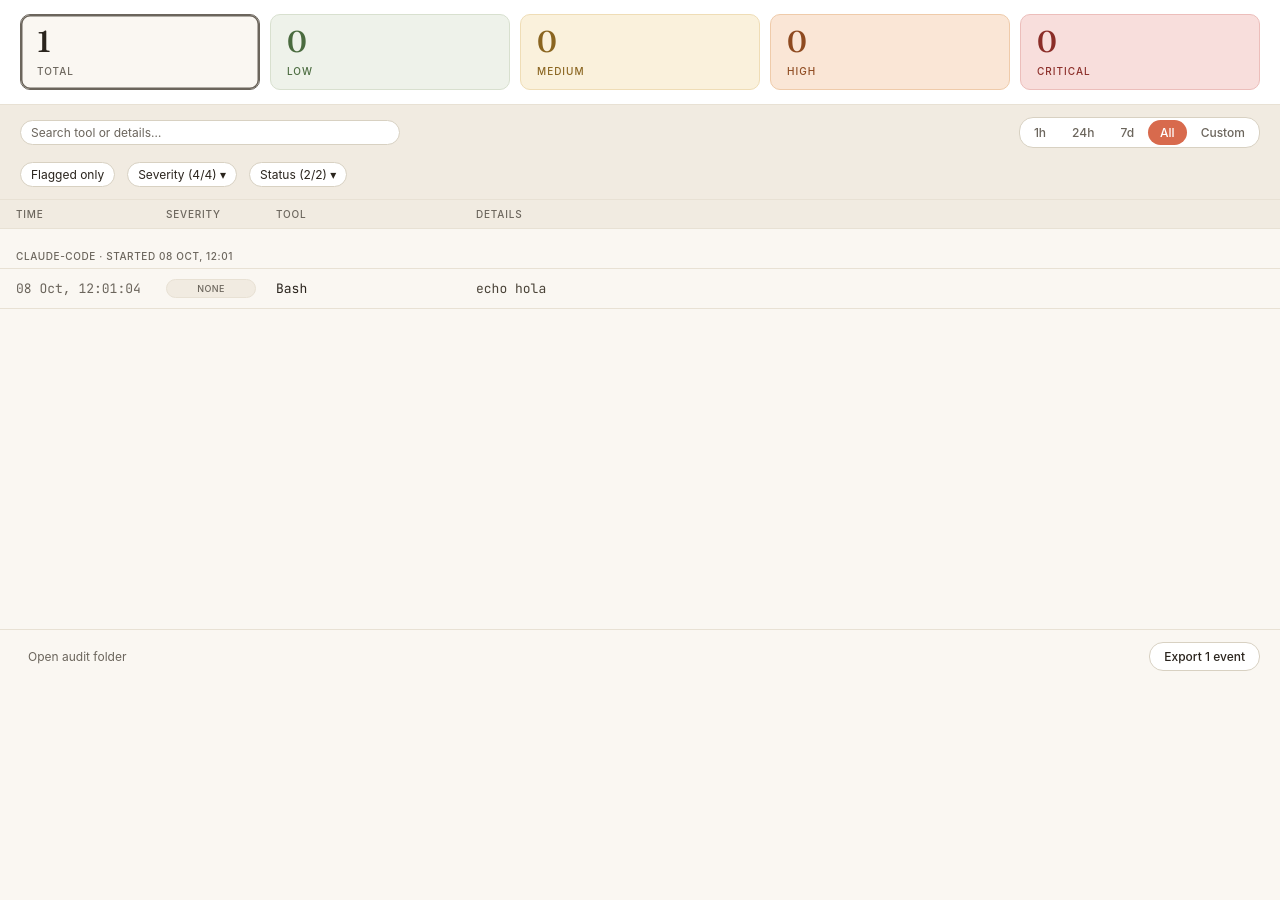
CC empty state (dogfood 22/07) › inline Clear filters (producto 22/07): absent without filters, appears with one and restores everything
This screenshot has width=1280, height=900.
Expected: the text "Bash" is shown, x1=276 y1=280 x2=307 y2=297
Expected: the button "Clear filters" is not shown
Click the button "24h": (1083, 132) x1=1060 y1=120 x2=1106 y2=145
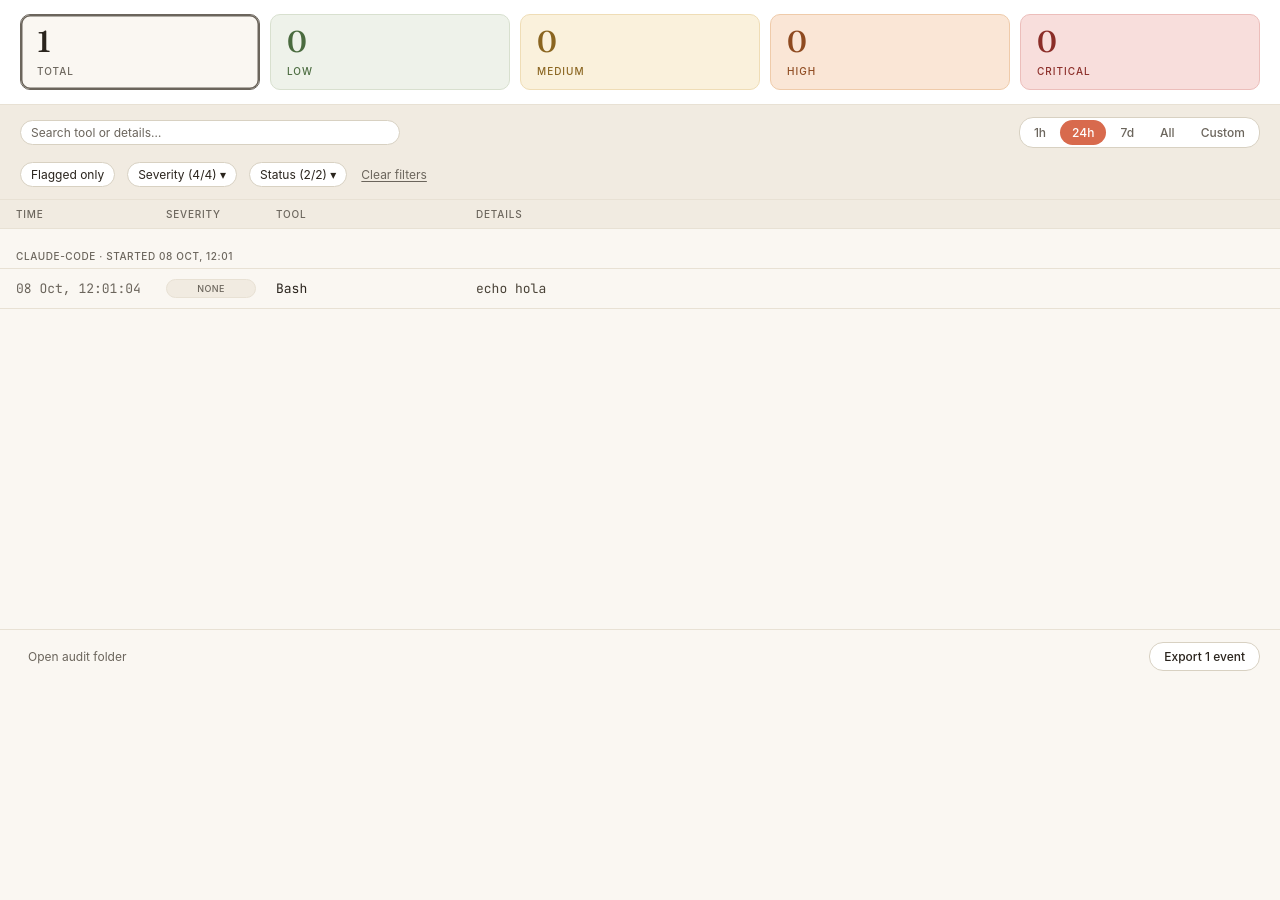
Click the button "Clear filters": (394, 174) x1=359 y1=163 x2=429 y2=186
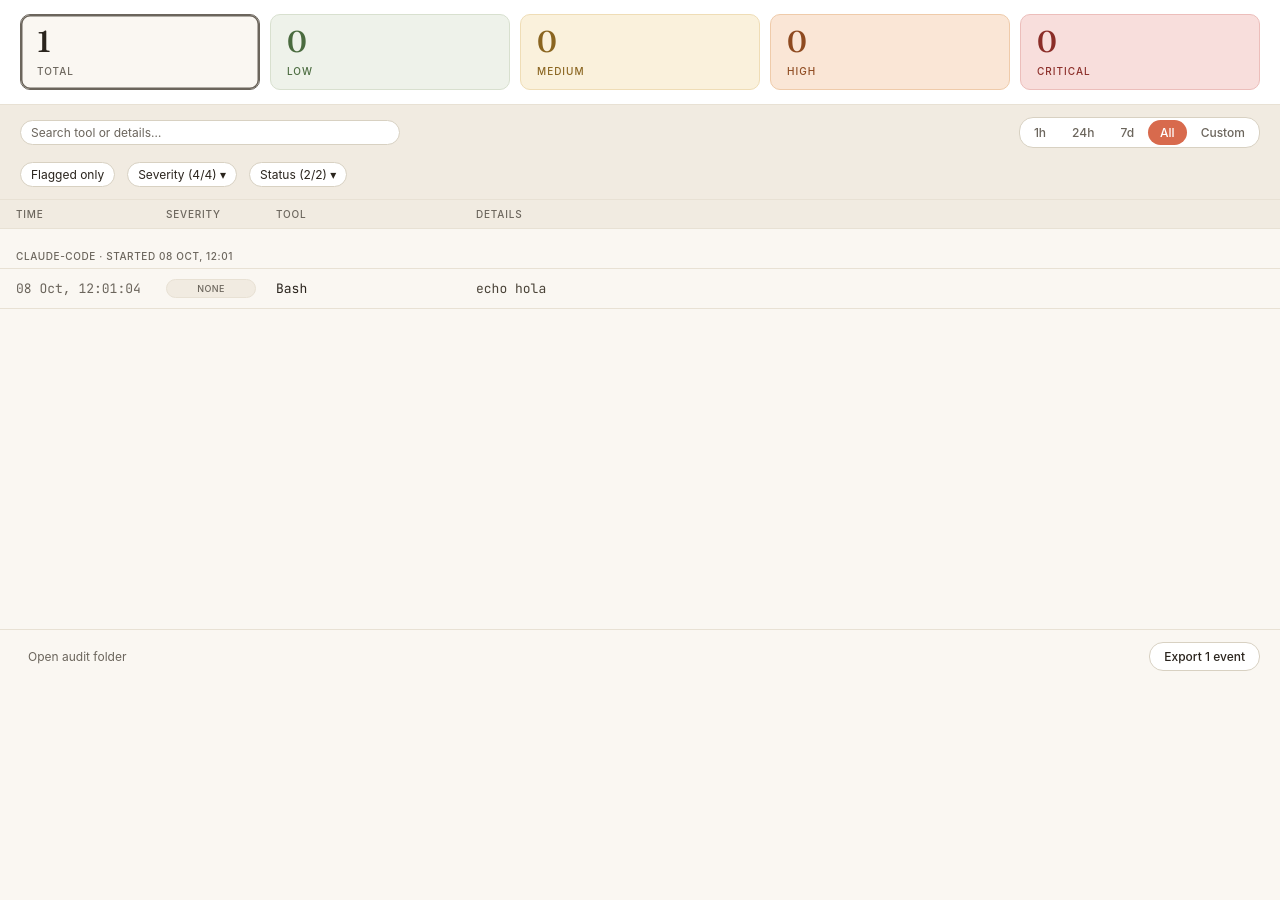
Expected: the text "Bash" is shown, x1=276 y1=280 x2=307 y2=297
Expected: the button "Clear filters" is gone
